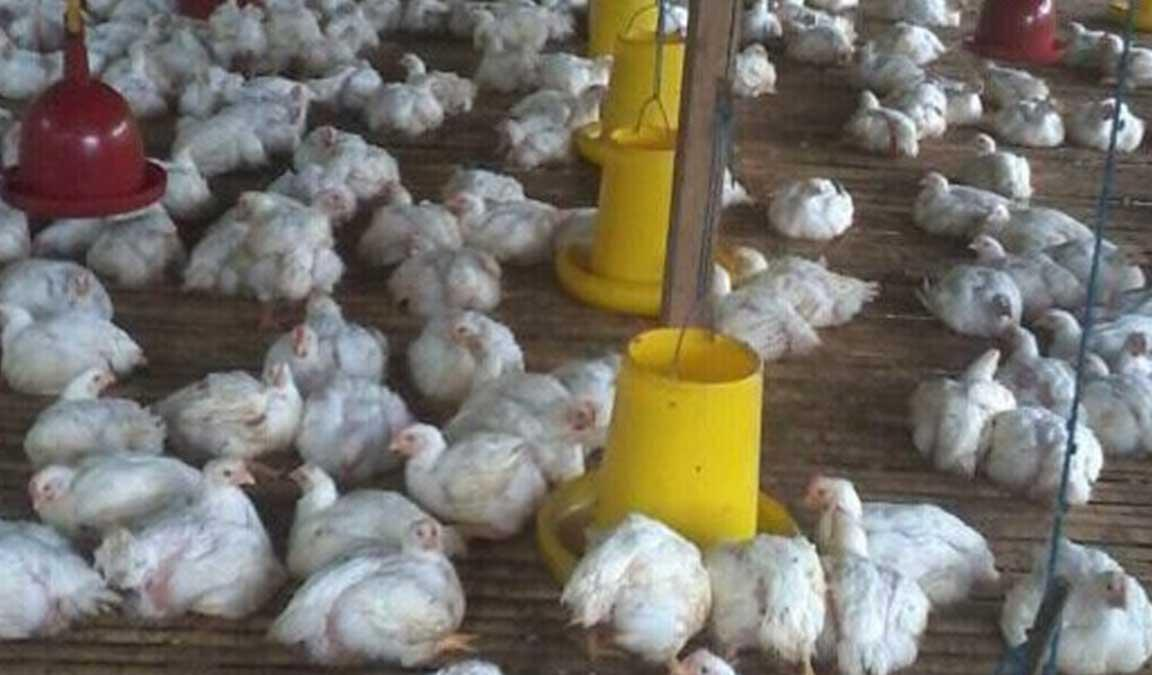chicken: (811, 475, 1003, 668), (274, 521, 466, 675), (116, 460, 279, 616), (568, 518, 712, 675), (1008, 541, 1152, 671), (174, 322, 315, 441), (392, 424, 537, 536), (716, 532, 826, 668), (287, 466, 456, 551), (729, 241, 883, 324), (913, 348, 1014, 469), (32, 454, 201, 524), (29, 361, 160, 451), (983, 410, 1104, 507), (714, 268, 834, 359), (299, 377, 411, 473), (454, 376, 594, 451), (409, 308, 519, 394), (449, 190, 578, 262), (401, 205, 492, 307), (969, 234, 1079, 304), (922, 266, 1019, 334), (909, 168, 1010, 229), (996, 325, 1066, 407), (769, 171, 854, 236), (1042, 305, 1152, 355), (850, 89, 916, 156), (978, 204, 1091, 243), (971, 130, 1033, 197), (1069, 98, 1143, 151)
